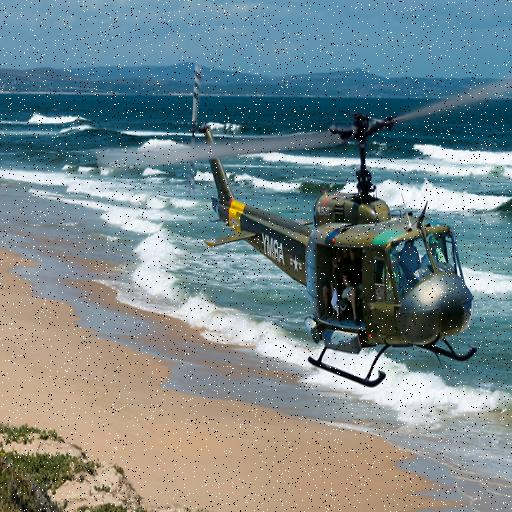helicopter: (173, 60, 489, 392)
